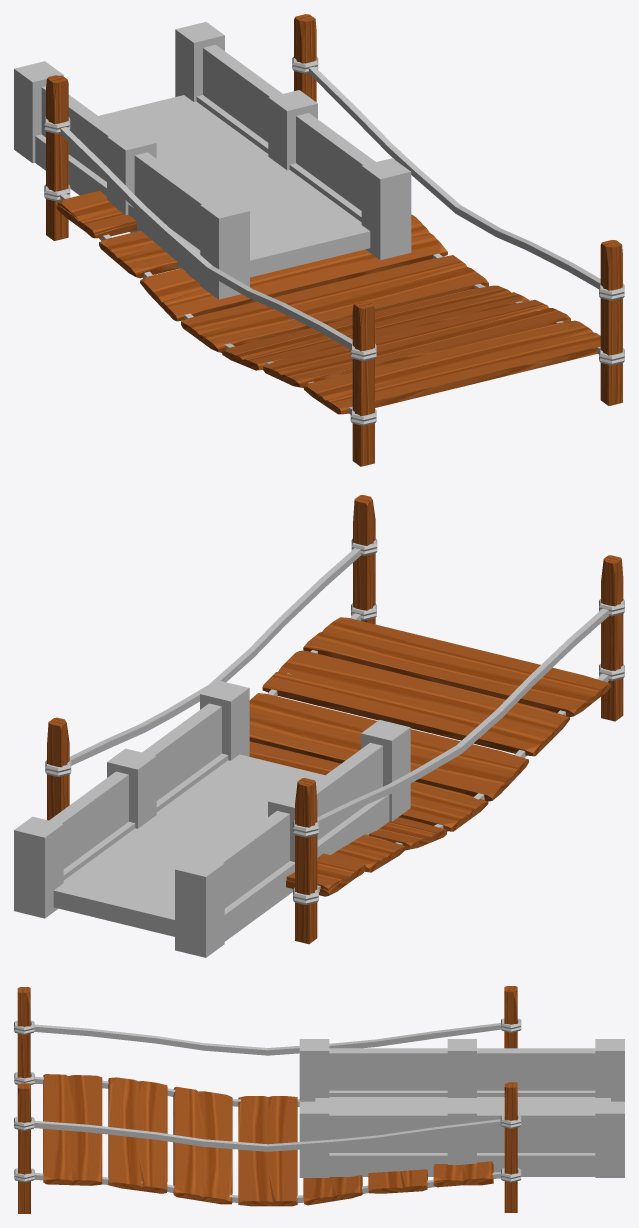
File: CartelPuerta.fbx
3 views of the same model, one above another, from view 1: azimuth 30°, elevation 25°; view 2: azimuth 150°, elevation 25°; view 3: azimuth 270°, elevation 25° (orthographic). The views are drawn at different scales.
Parts seen in each view (by area): view 1: Cube.006, Cube, Cube.012, Torus.001, Cube.010, Cube.011, Cube.003, Cube.004, Cube.009, Cube.002, Cube.008, Cube.007 (+3 smaller); view 2: Cube.006, Cube, Cube.012, Torus.001, Cube.010, Cube.011, Cube.009, Cube.008, Cube.002, Cube.004, Cube.003, Cube.007 (+3 smaller); view 3: Cube.006, Cube.011, Torus.001, Cube.010, Cube.012, Cube.001, Cube, Cube.008, Cube.003, Cube.004, Cube.009, Cube.005 (+3 smaller).
Part boxes in pixels (x1,y1,x2,y2): Cube.006: [58, 190, 600, 414]; Cube: [98, 95, 370, 277]; Cube.012: [46, 14, 622, 466]; Torus.001: [44, 56, 624, 425]; Cube.010: [203, 45, 375, 210]; Cube.011: [41, 86, 214, 249]; Cube.003: [361, 158, 411, 260]; Cube.004: [200, 197, 249, 299]; Cube.009: [14, 61, 63, 163]; Cube.002: [35, 134, 200, 283]; Cube.008: [175, 22, 224, 101]; Cube.007: [268, 90, 317, 170]; Cube.006: [249, 617, 610, 891]; Cube: [53, 754, 324, 936]; Cube.012: [47, 495, 623, 944]; Torus.001: [45, 538, 624, 904]; Cube.010: [49, 703, 221, 868]; Cube.011: [210, 742, 382, 908]; Cube.009: [175, 856, 224, 957]; Cube.008: [14, 816, 63, 918]; Cube.002: [224, 795, 389, 941]; Cube.004: [361, 720, 410, 821]; Cube.003: [200, 680, 249, 760]; Cube.007: [107, 748, 156, 828]; Cube.006: [43, 1074, 492, 1206]; Cube.011: [329, 1048, 595, 1090]; Torus.001: [14, 1018, 521, 1203]; Cube.010: [329, 1110, 595, 1152]; Cube.012: [17, 986, 517, 1213]; Cube.001: [329, 1153, 595, 1176]; Cube: [315, 1097, 610, 1110]; Cube.008: [595, 1101, 624, 1177]; Cube.003: [299, 1101, 329, 1177]; Cube.004: [299, 1039, 329, 1101]; Cube.009: [595, 1039, 624, 1101]; Cube.005: [447, 1039, 476, 1097].
Bounding box in the file's own units: 850 × 471 × 2066.
